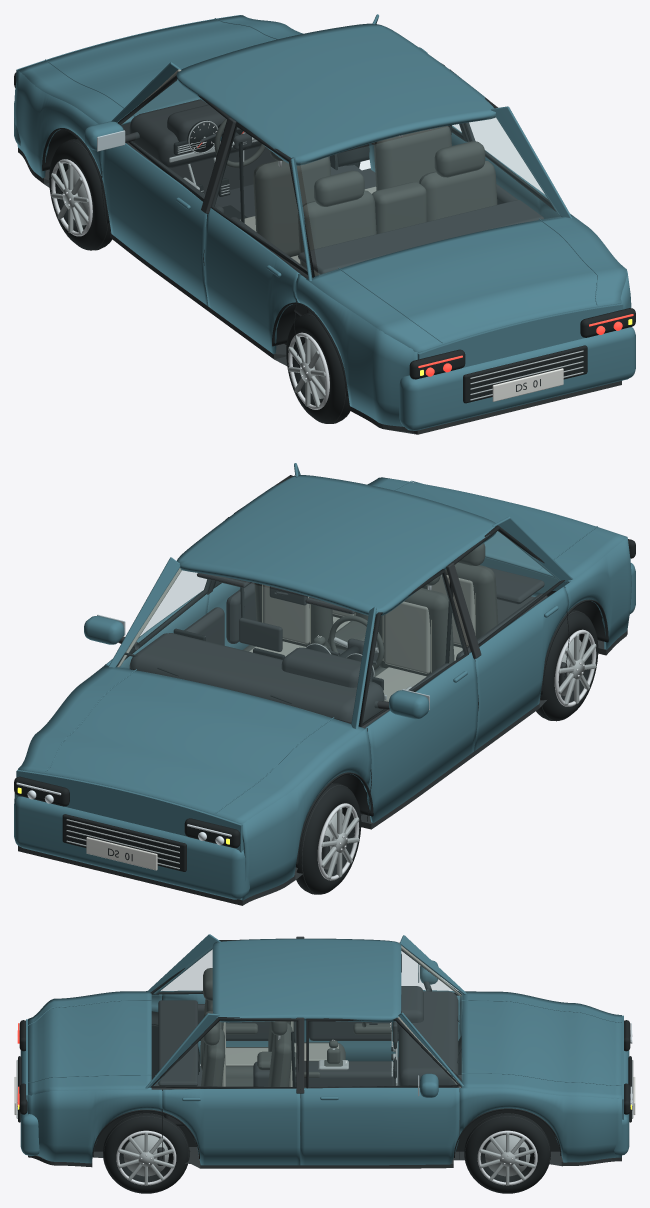
File: DS_Sedan_A_closed_shell.fbx
3 views of the same model, one above another, from view 1: azimuth 30°, elevation 25°; view 2: azimuth 150°, elevation 25°; view 3: azimuth 270°, elevation 25° (orthographic). The views are drawn at different scales.
Visible parts, largest first — view 1: Roof, Trunk, Glass_Rear, Hood, DoorFront_L, BumperFacia_-1, DoorRear_L, RearQuarter_L, Glass_Rear_L, Glass_Front_L, RearParcelShelf, Shell_RearUpperFacia (+31 smaller); view 2: Hood, Roof, Glass_Windshield, DoorFront_L, Dashboard, BumperFacia_1, DoorRear_L, Trunk, Glass_Front_L, FrontWing_L, Glass_Rear_L, Shell_FrontUpperFacia (+35 smaller); view 3: Roof, Hood, DoorFront_R, Trunk, DoorRear_R, Glass_Front_R, Glass_Rear_R, FrontWing_R, RearQuarter_R, Glass_Windshield, Glass_Rear, Dashboard (+34 smaller).
Part boxes in pixels (x1,y1,x2,y2): Roof: [176, 23, 495, 165]; Trunk: [306, 214, 627, 352]; Glass_Rear: [301, 116, 560, 275]; Hood: [18, 15, 302, 125]; DoorFront_L: [101, 143, 208, 306]; BumperFacia_-1: [399, 327, 635, 430]; DoorRear_L: [204, 208, 300, 354]; RearQuarter_L: [294, 274, 417, 426]; Glass_Rear_L: [214, 127, 306, 270]; Glass_Front_L: [120, 81, 225, 198]; RearParcelShelf: [298, 200, 544, 274]; Shell_RearUpperFacia: [417, 303, 623, 367]; Hood: [18, 665, 365, 824]; Roof: [177, 475, 496, 616]; Glass_Windshield: [118, 568, 367, 721]; DoorFront_L: [365, 652, 478, 823]; Dashboard: [129, 633, 384, 723]; BumperFacia_1: [14, 796, 249, 899]; DoorRear_L: [474, 586, 568, 751]; Trunk: [367, 477, 626, 582]; Glass_Front_L: [363, 575, 464, 722]; FrontWing_L: [240, 728, 371, 900]; Glass_Rear_L: [455, 532, 559, 642]; Shell_FrontUpperFacia: [16, 770, 243, 852]; Roof: [212, 938, 401, 1022]; Hood: [461, 991, 621, 1098]; DoorFront_R: [300, 1087, 459, 1165]; Trunk: [28, 991, 151, 1095]; DoorRear_R: [162, 1088, 300, 1165]; Glass_Front_R: [309, 1021, 456, 1086]; Glass_Rear_R: [155, 1021, 295, 1086]; FrontWing_R: [459, 1088, 621, 1162]; RearQuarter_R: [28, 1089, 162, 1163]; Glass_Windshield: [402, 950, 462, 1078]; Glass_Rear: [150, 947, 212, 1080]; Dashboard: [398, 991, 458, 1087].
Size of the model in its own units: 225 by 468 by 146.
